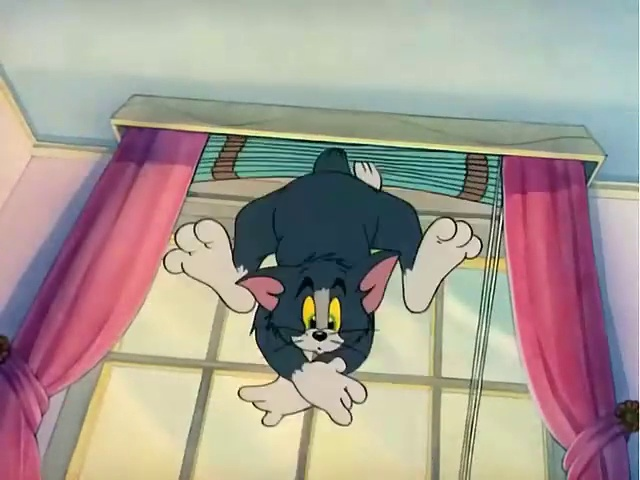tom: (174, 123, 524, 434)
